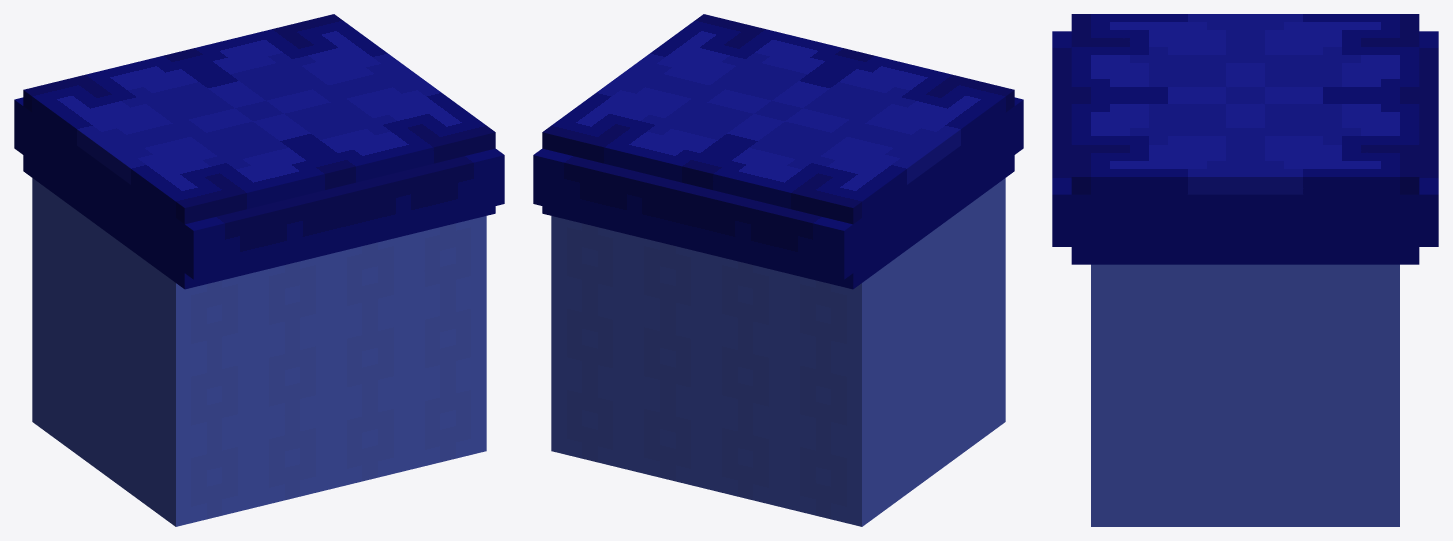
File: full_top_middle.glb
The picture shows the model from 3 angles, left to right: view 1: azimuth 30°, elevation 25°; view 2: azimuth 150°, elevation 25°; view 3: azimuth 270°, elevation 25°; orthographic projection. The views are drawn at different scales.
Visible parts, largest first — view 1: full_top_middle; view 2: full_top_middle; view 3: full_top_middle.
Boxes of the visible parts, bbox=[...] form: full_top_middle: bbox=[14, 14, 504, 526]; full_top_middle: bbox=[533, 14, 1023, 526]; full_top_middle: bbox=[1052, 14, 1438, 526].
Size of the model in its own units: 2 by 2 by 2.
1 material, 1 textured.
